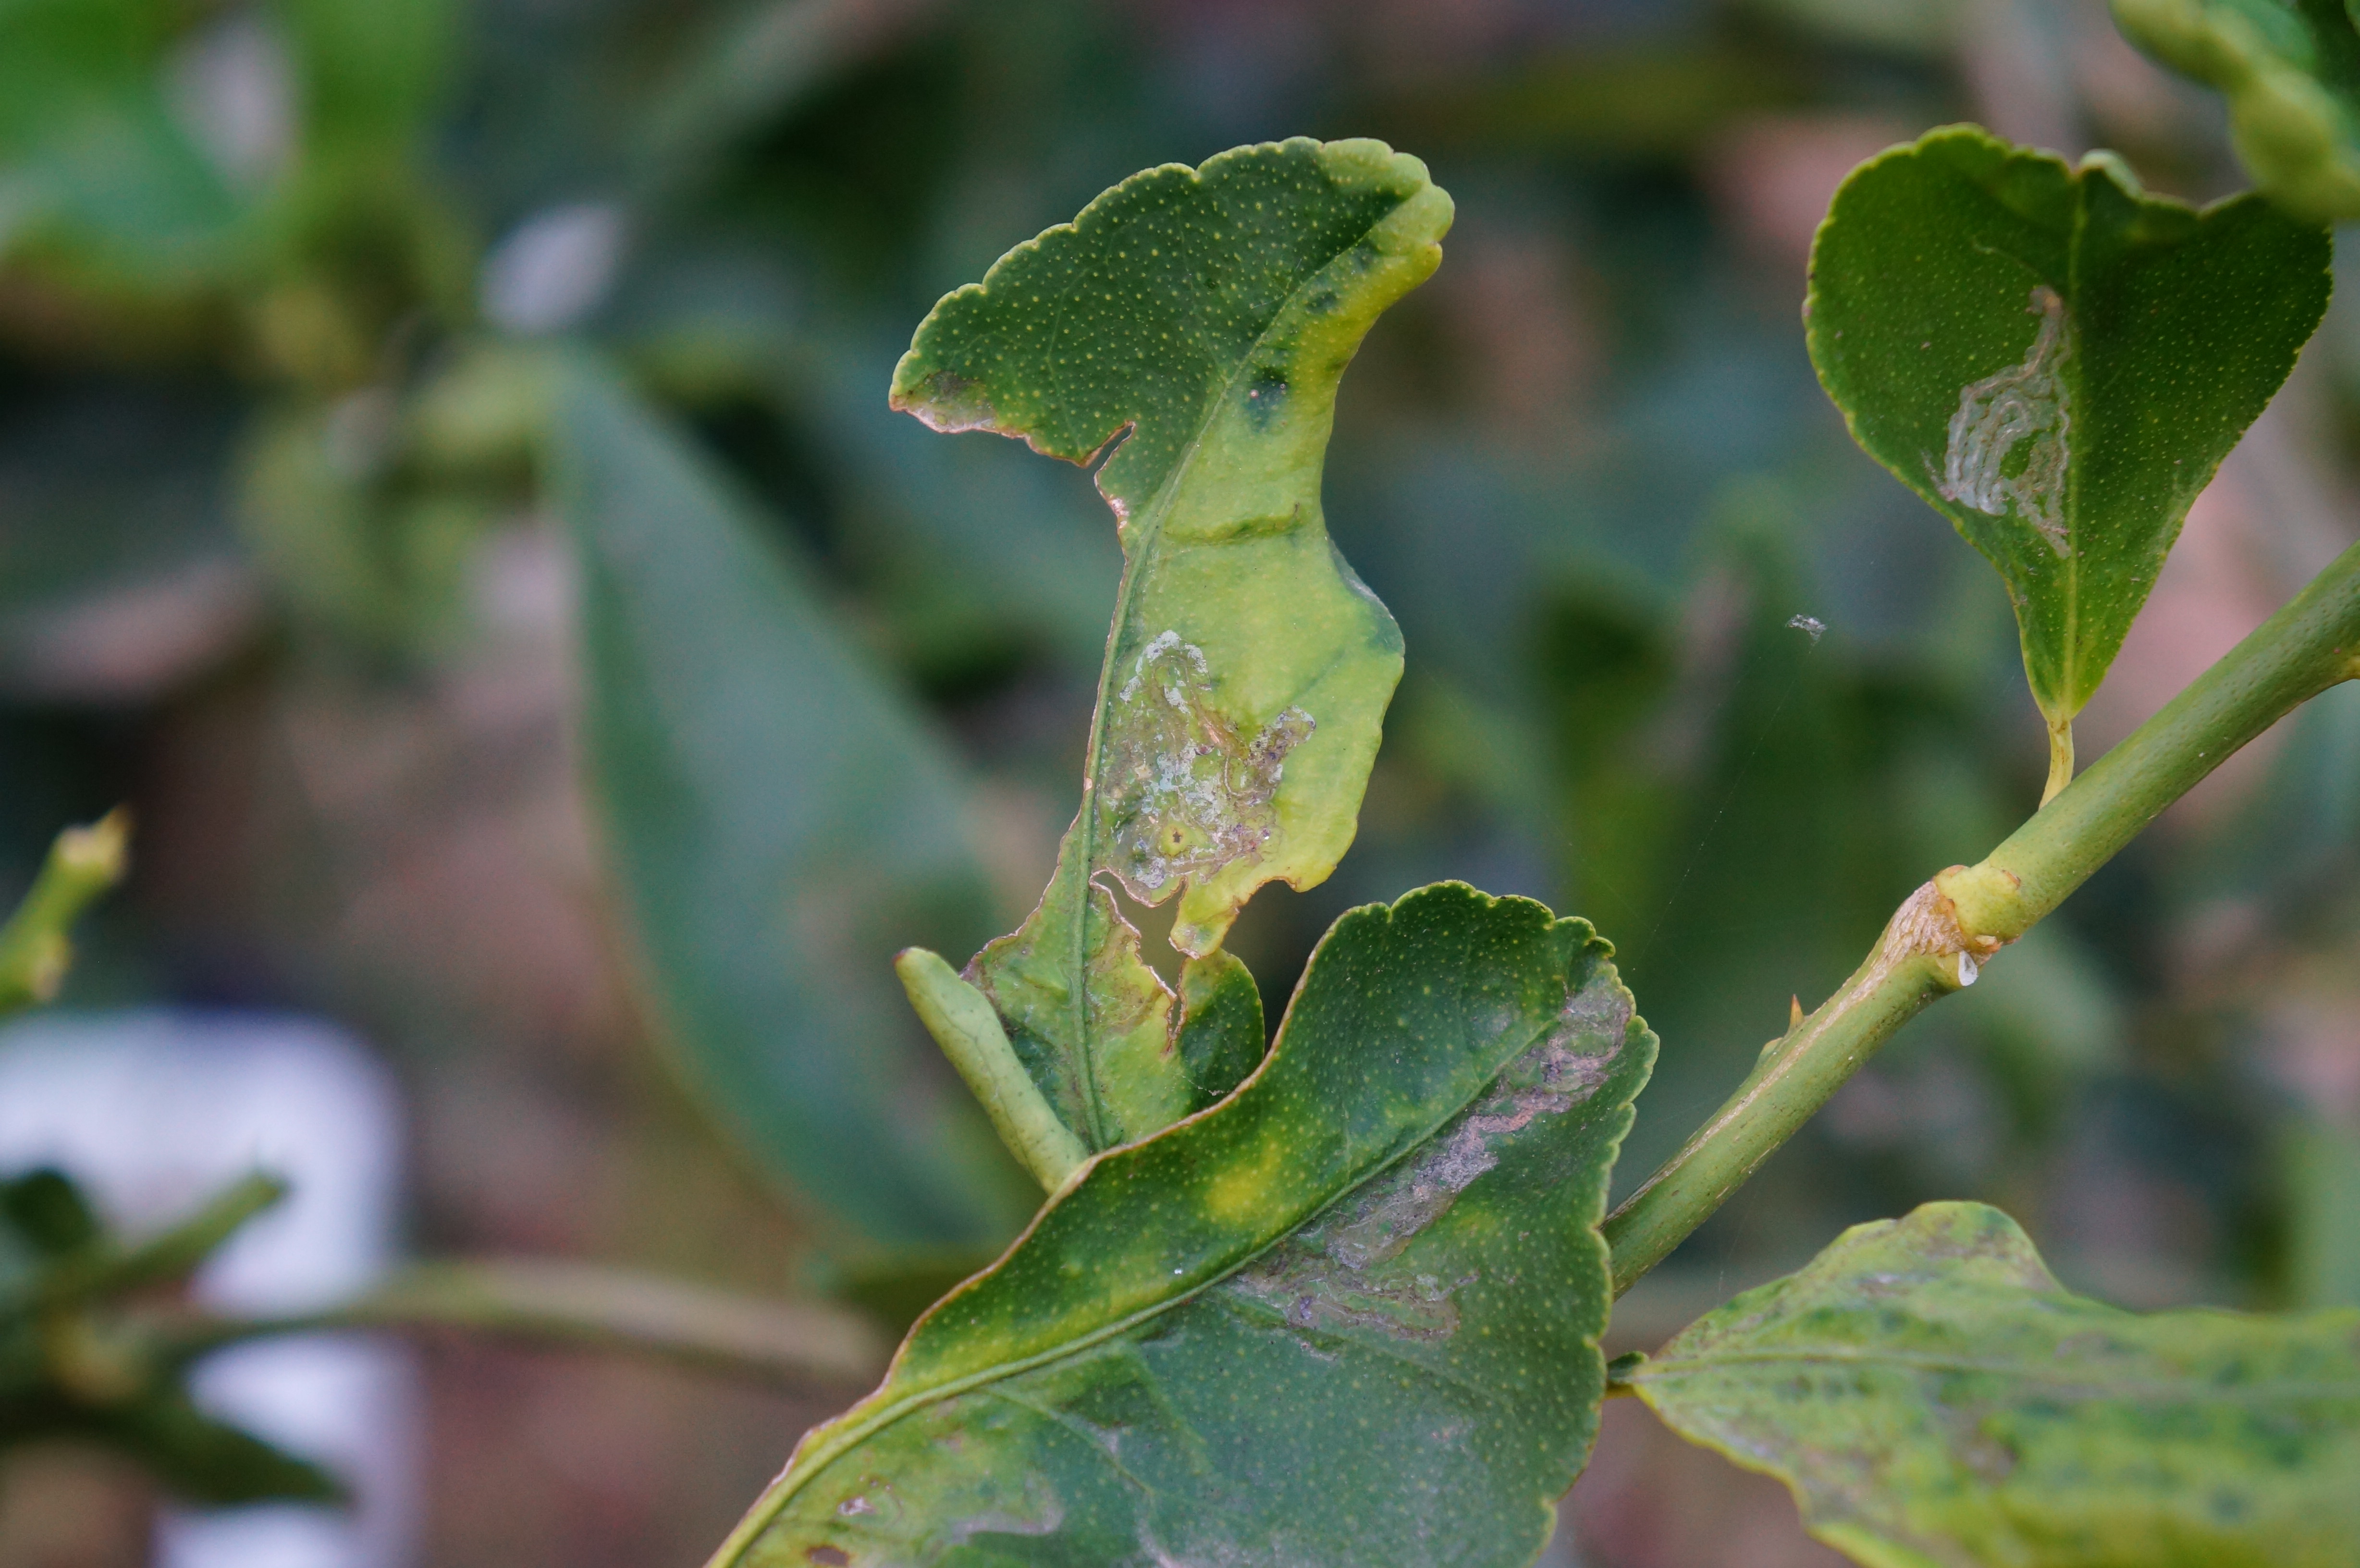damage: (1211, 957, 1650, 1356), (1029, 602, 1351, 992), (1933, 269, 2105, 572)
